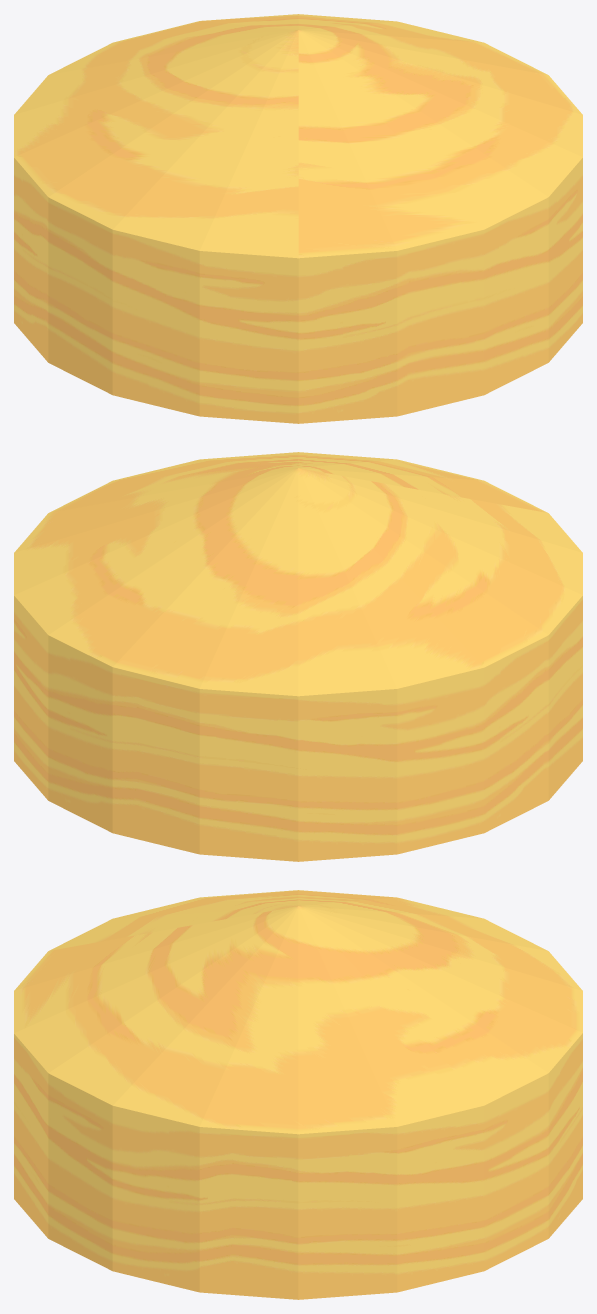
Rendered from DonutLand.glb.
3 views of the same model, one above another, from view 1: azimuth 30°, elevation 25°; view 2: azimuth 150°, elevation 25°; view 3: azimuth 270°, elevation 25° (orthographic).
Parts seen in each view (by area): view 1: DonutLand_Sky; view 2: DonutLand_Sky; view 3: DonutLand_Sky.
Part boxes in pixels (x1,y1,x2,y2): DonutLand_Sky: (14,14,582,423); DonutLand_Sky: (14,452,582,861); DonutLand_Sky: (14,890,582,1299).
Size of the model in its own units: 80 by 42.24 by 78.78.
5 materials, 5 textured.
